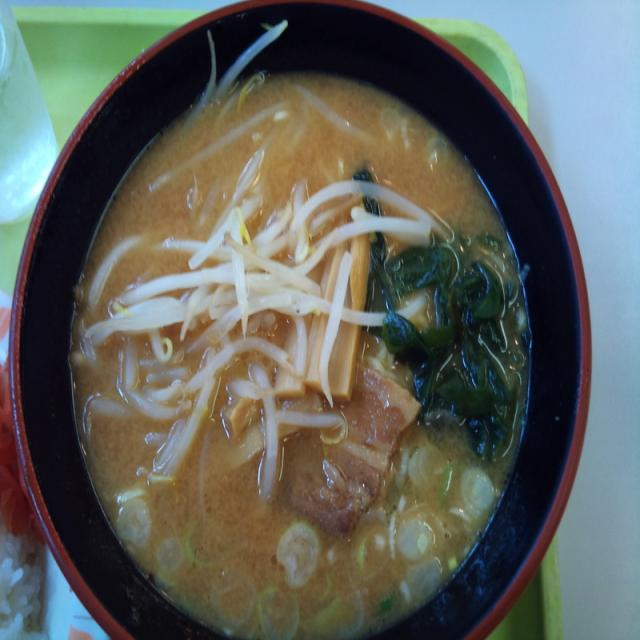面条主食: (1, 0, 600, 640)
